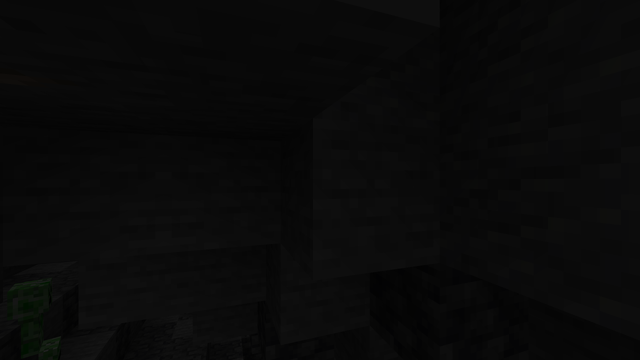creepers: (3, 273, 60, 358)
